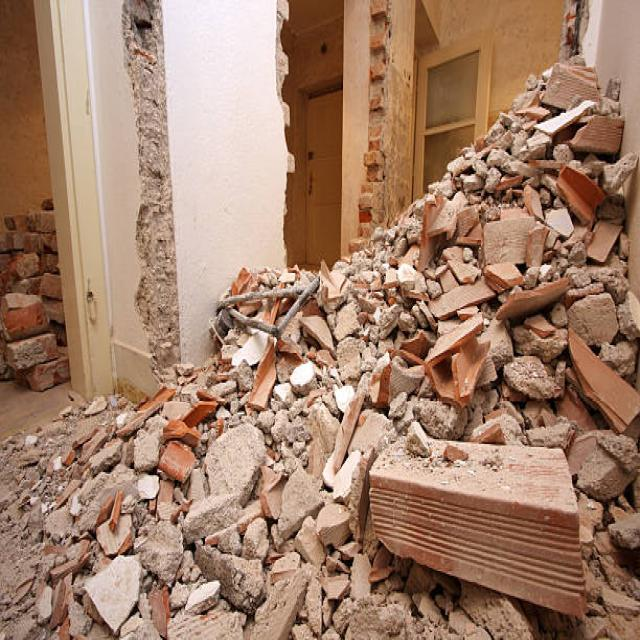trash: (70, 99, 626, 588)
